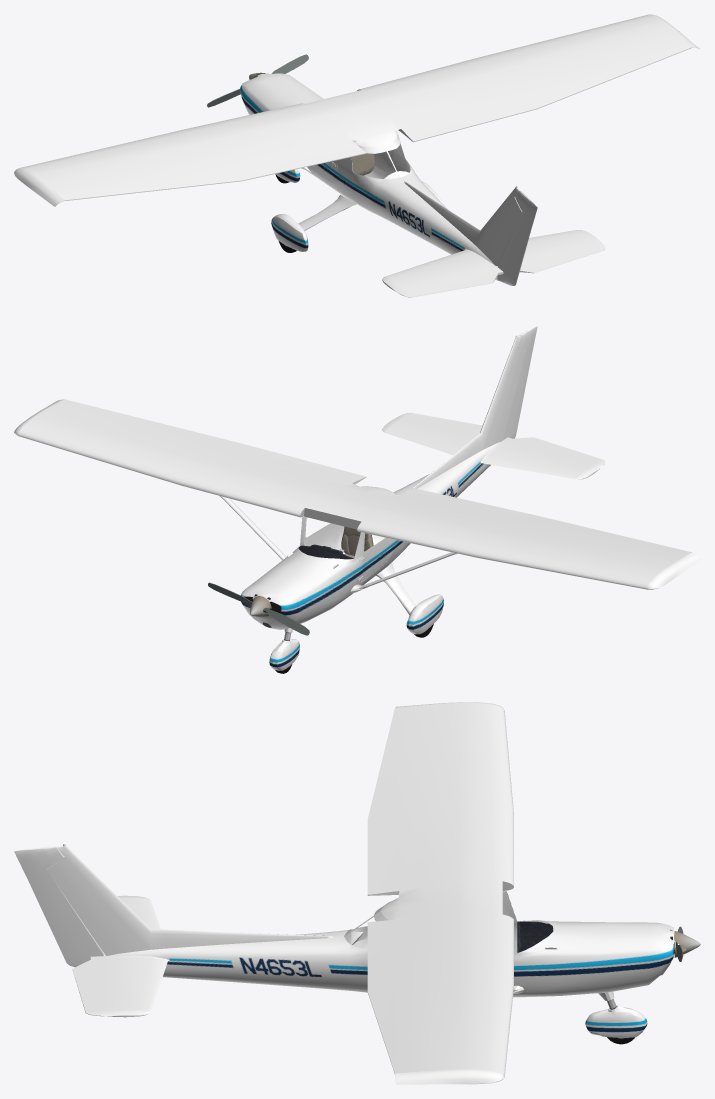
The model's file is Airplane1.fbx.
3 renders of one model, top to bottom at view 1: azimuth 30°, elevation 25°; view 2: azimuth 150°, elevation 25°; view 3: azimuth 270°, elevation 25°, orthographic. The views are drawn at different scales.
Parts seen in each view (by area): view 1: main_body, propeler; view 2: main_body, propeler, seat; view 3: main_body.
Boxes of the visible parts, <box> form: main_body: <box>14,14,699,297</box>; propeler: <box>207,54,308,107</box>; main_body: <box>14,326,700,670</box>; propeler: <box>208,582,309,635</box>; seat: <box>341,526,373,558</box>; main_body: <box>14,702,674,1084</box>.
Size of the model in its own units: 22955 by 5660 by 17683.
